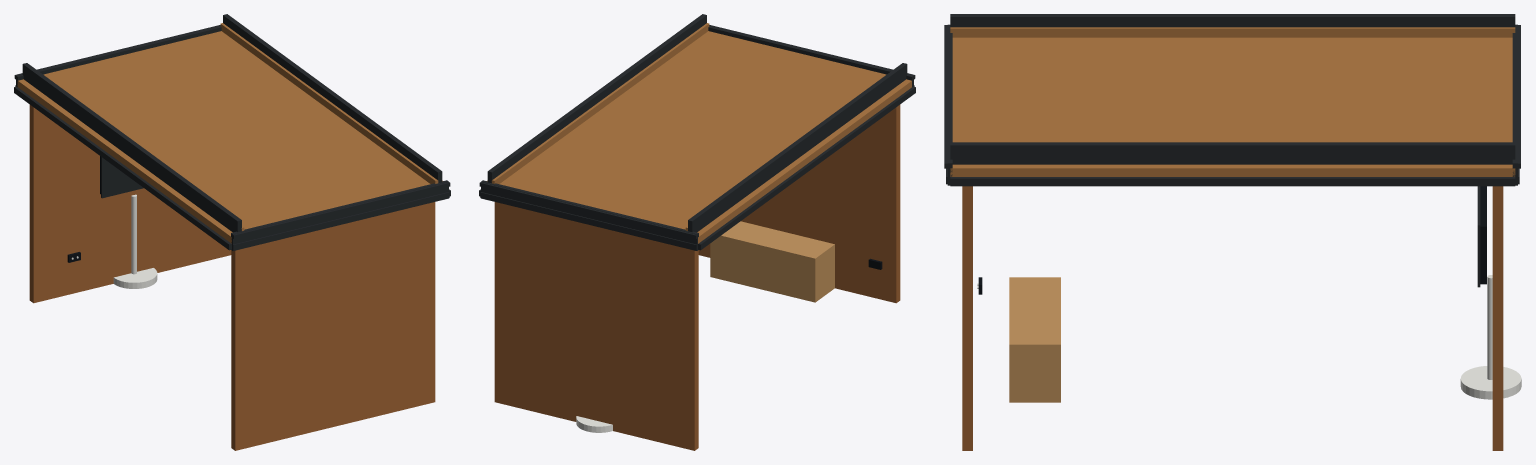
The model's file is A3_A4_transition_interior_measured.glb.
3 renders of one model, left to right at view 1: azimuth 30°, elevation 25°; view 2: azimuth 150°, elevation 25°; view 3: azimuth 270°, elevation 25°, orthographic. The views are drawn at different scales.
Visible parts, largest first — view 1: ARCH_TRANSITION_SOUTH_WALL, ARCH_TRANSITION_FLAT_ROOF, ARCH_TRANSITION_NORTH_WALL, ARCH_TRANSITION_A4_ROOF_UPSTAND, ARCH_TRANSITION_A3_ROOF_UPSTAND, ARCH_TRANSITION_A3_SEAL_STRIP, ARCH_TRANSITION_SOUTH_FASCIA, ARCH_TRANSITION_FLAT_ROOF_WEST_BEAM, ARCH_TRANSITION_FLAT_ROOF_FRONT_BEAM, ARCH_TRANSITION_NORTH_FASCIA, ARCH_TRANSITION_SOUTH_DRIP_EDGE, DEV_TRANSITION_TV_01_BEZEL (+2 smaller); view 2: ARCH_TRANSITION_NORTH_WALL, ARCH_TRANSITION_FLAT_ROOF, ARCH_TRANSITION_SOUTH_WALL, FURN_TRANSITION_BENCH_01, ARCH_TRANSITION_A4_ROOF_UPSTAND, ARCH_TRANSITION_A3_ROOF_UPSTAND, ARCH_TRANSITION_A3_SEAL_STRIP, ARCH_TRANSITION_NORTH_FASCIA, ARCH_TRANSITION_FLAT_ROOF_WEST_BEAM, ARCH_TRANSITION_FLAT_ROOF_BACK_BEAM, ARCH_TRANSITION_SOUTH_FASCIA, ARCH_TRANSITION_NORTH_DRIP_EDGE (+1 smaller); view 3: ARCH_TRANSITION_FLAT_ROOF, ARCH_TRANSITION_A3_ROOF_UPSTAND, ARCH_TRANSITION_A4_ROOF_UPSTAND, FURN_TRANSITION_BENCH_01, ARCH_TRANSITION_A4_SEAL_STRIP, ARCH_TRANSITION_FLAT_ROOF_EAST_BEAM, ARCH_TRANSITION_NORTH_WALL, ARCH_TRANSITION_SOUTH_WALL, DEV_TRANSITION_TV_01_BASE, ARCH_TRANSITION_SOUTH_FASCIA, ARCH_TRANSITION_NORTH_FASCIA, DEV_TRANSITION_TV_01 (+2 smaller).
Part boxes in pixels (box(x1,y1,x2,y2)): ARCH_TRANSITION_SOUTH_WALL: box(231, 202, 435, 450); ARCH_TRANSITION_FLAT_ROOF: box(17, 31, 442, 243); ARCH_TRANSITION_NORTH_WALL: box(29, 104, 231, 303); ARCH_TRANSITION_A4_ROOF_UPSTAND: box(22, 63, 241, 232); ARCH_TRANSITION_A3_ROOF_UPSTAND: box(223, 14, 442, 183); ARCH_TRANSITION_A3_SEAL_STRIP: box(220, 23, 438, 183); ARCH_TRANSITION_SOUTH_FASCIA: box(231, 180, 448, 250); ARCH_TRANSITION_FLAT_ROOF_WEST_BEAM: box(14, 86, 231, 250); ARCH_TRANSITION_FLAT_ROOF_FRONT_BEAM: box(232, 192, 449, 250); ARCH_TRANSITION_NORTH_FASCIA: box(16, 25, 221, 86); ARCH_TRANSITION_SOUTH_DRIP_EDGE: box(232, 182, 450, 238); DEV_TRANSITION_TV_01_BEZEL: box(101, 157, 143, 198); ARCH_TRANSITION_NORTH_WALL: box(494, 202, 698, 450); ARCH_TRANSITION_FLAT_ROOF: box(487, 31, 911, 243); ARCH_TRANSITION_SOUTH_WALL: box(698, 104, 900, 303); FURN_TRANSITION_BENCH_01: box(710, 221, 834, 302); ARCH_TRANSITION_A4_ROOF_UPSTAND: box(688, 63, 907, 232); ARCH_TRANSITION_A3_ROOF_UPSTAND: box(487, 14, 706, 183); ARCH_TRANSITION_A3_SEAL_STRIP: box(491, 23, 709, 183); ARCH_TRANSITION_NORTH_FASCIA: box(481, 180, 698, 250); ARCH_TRANSITION_FLAT_ROOF_WEST_BEAM: box(698, 86, 915, 250); ARCH_TRANSITION_FLAT_ROOF_BACK_BEAM: box(480, 192, 697, 250); ARCH_TRANSITION_SOUTH_FASCIA: box(708, 25, 913, 86); ARCH_TRANSITION_NORTH_DRIP_EDGE: box(479, 182, 697, 238); ARCH_TRANSITION_FLAT_ROOF: box(950, 37, 1515, 176); ARCH_TRANSITION_A3_ROOF_UPSTAND: box(950, 142, 1515, 164); ARCH_TRANSITION_A4_ROOF_UPSTAND: box(950, 14, 1515, 27); FURN_TRANSITION_BENCH_01: box(1009, 277, 1060, 402); ARCH_TRANSITION_A4_SEAL_STRIP: box(950, 27, 1515, 37); ARCH_TRANSITION_FLAT_ROOF_EAST_BEAM: box(950, 177, 1515, 186); ARCH_TRANSITION_NORTH_WALL: box(1492, 186, 1503, 450); ARCH_TRANSITION_SOUTH_WALL: box(962, 186, 972, 450); DEV_TRANSITION_TV_01_BASE: box(1460, 366, 1521, 399); ARCH_TRANSITION_SOUTH_FASCIA: box(947, 24, 952, 185); ARCH_TRANSITION_NORTH_FASCIA: box(1512, 24, 1517, 185); DEV_TRANSITION_TV_01: box(1480, 186, 1486, 284).
Size of the model in its own units: 2.22 by 2.23 by 3.8.
